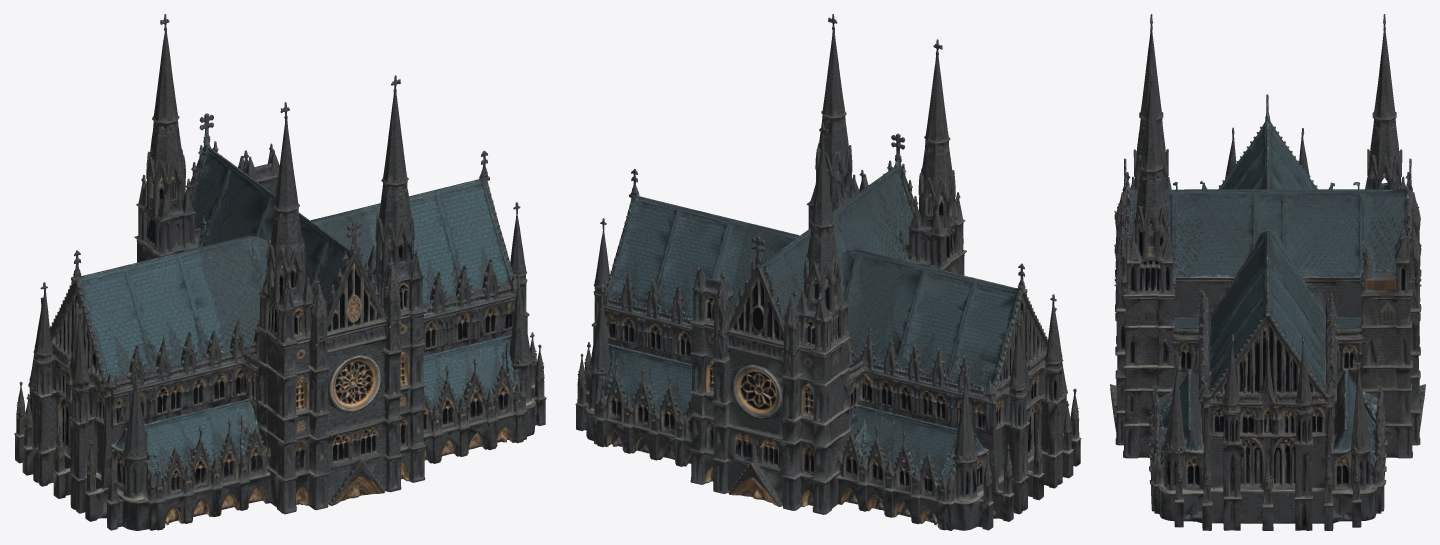
Rendered from cathedral_spires.glb.
The picture shows the model from 3 angles, left to right: view 1: azimuth 30°, elevation 25°; view 2: azimuth 150°, elevation 25°; view 3: azimuth 270°, elevation 25°; orthographic projection. The views are drawn at different scales.
Bounding box in the file's own units: 1.9 × 1.6 × 1.19.
1 material, 1 textured.
